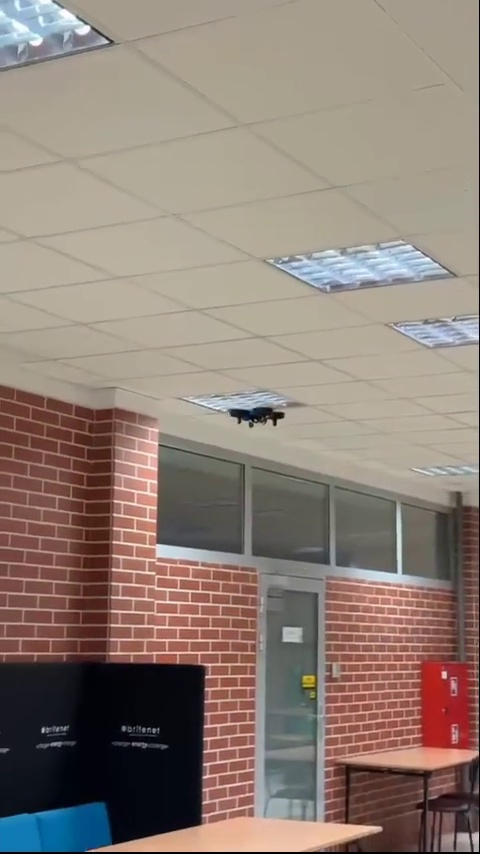drone: (227, 404, 287, 430)
